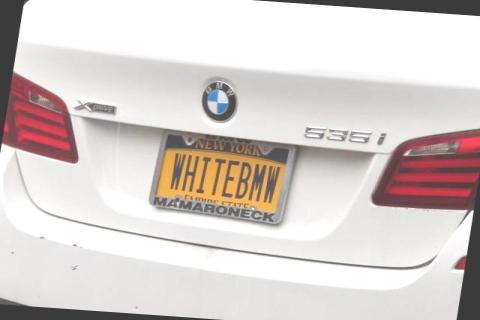LicensePlate: (145, 127, 296, 225)
